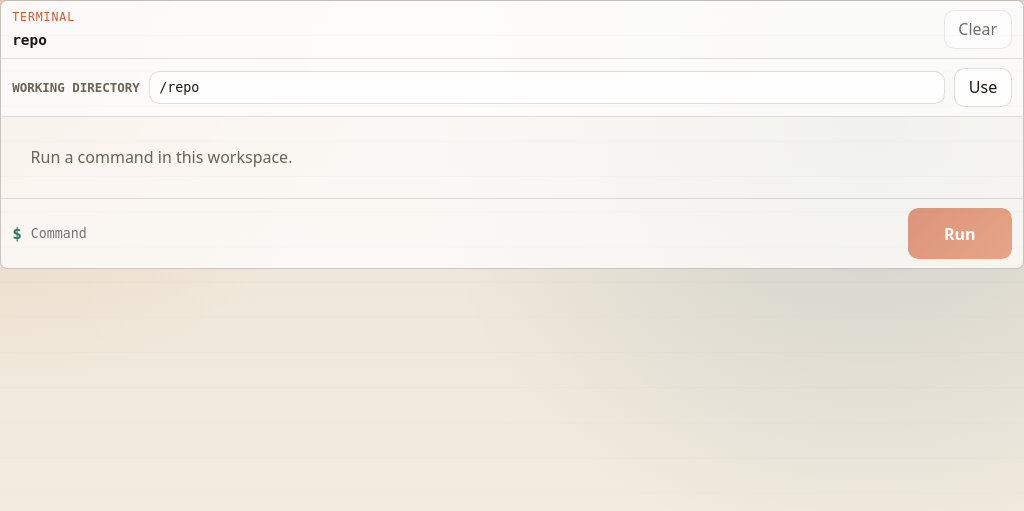
Test: TerminalPanel › keeps the live terminal subscription after clearing history
The width and height of the screenshot is (1024, 511).
In the field named "Terminal command": x=465, y=234 31,216 -> 899,251, type "echo first"
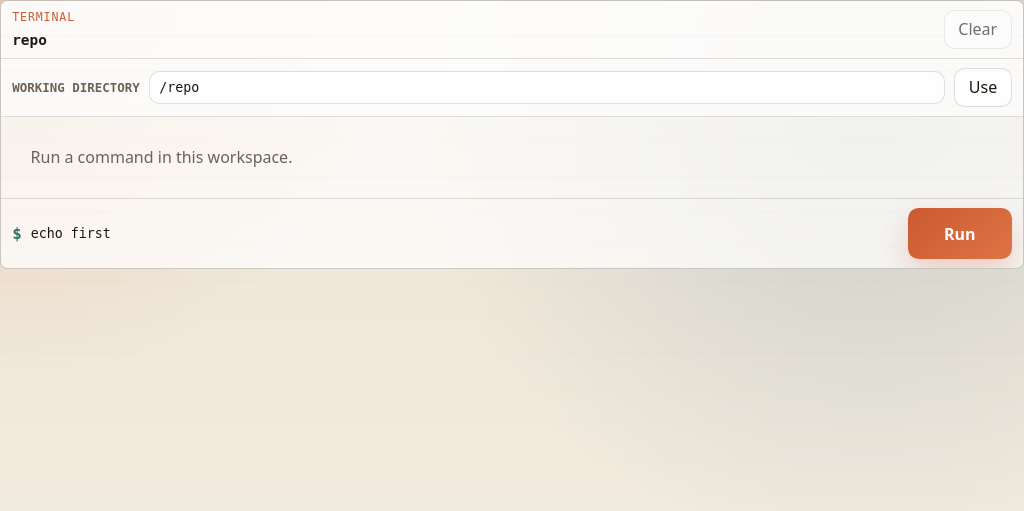
Click the button "Run": x=960, y=234 908,208 -> 1012,259
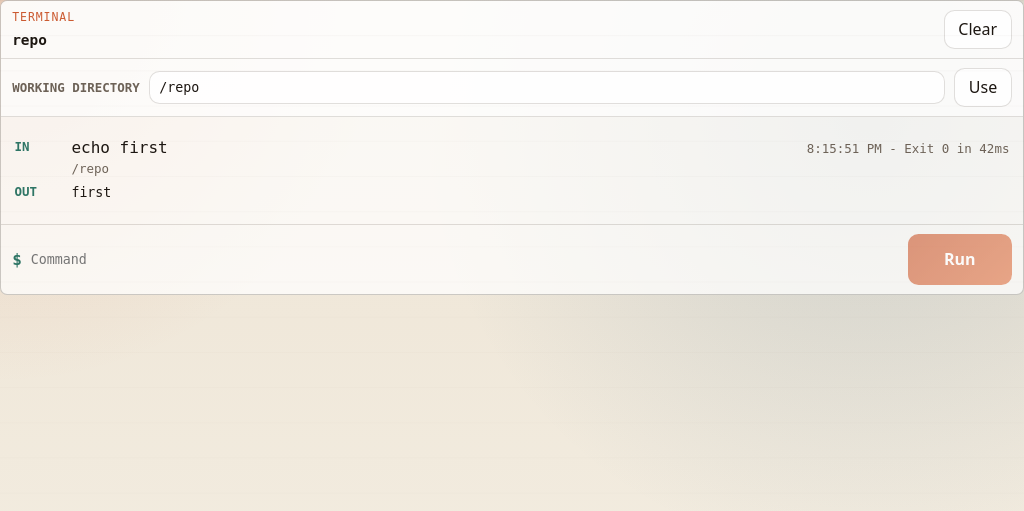
Check: the text with class "terminal-output-stdout" reads "first", box 71,185 -> 111,200
Click the button "Clear": x=978, y=30 944,10 -> 1012,49
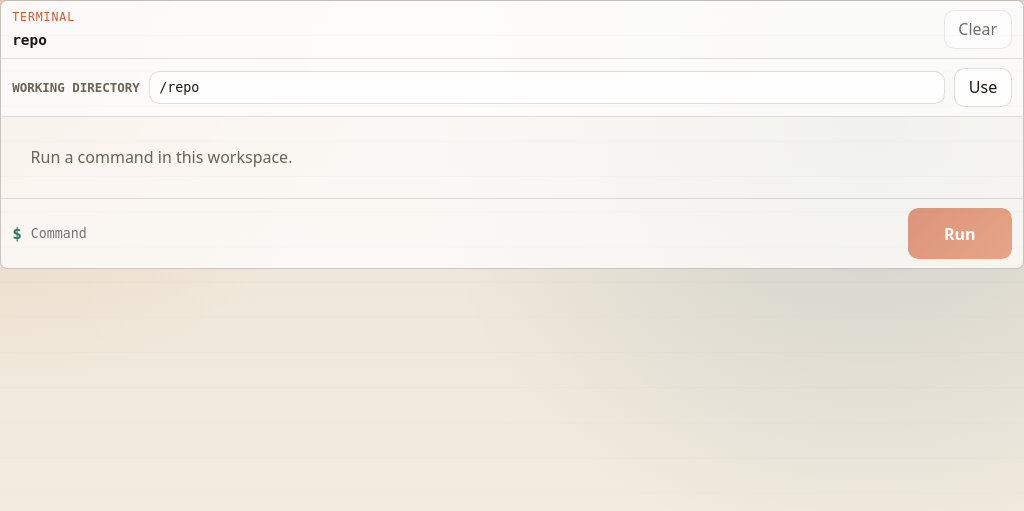
Check: the text "Run a command in this workspace." is shown, box 31,146 -> 292,168
In the field named "Terminal command": x=465, y=234 31,216 -> 899,251, type "echo second"
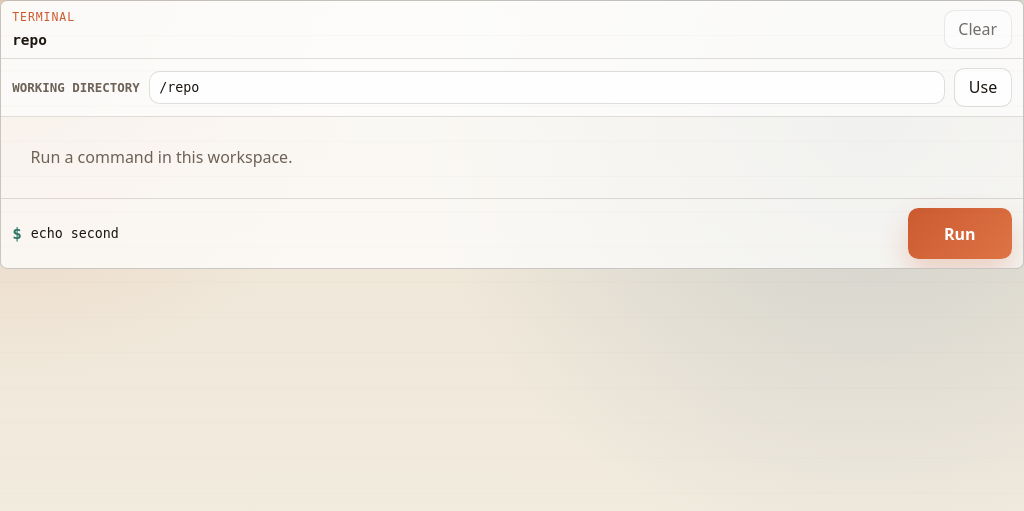
Click the button "Run": x=960, y=234 908,208 -> 1012,259
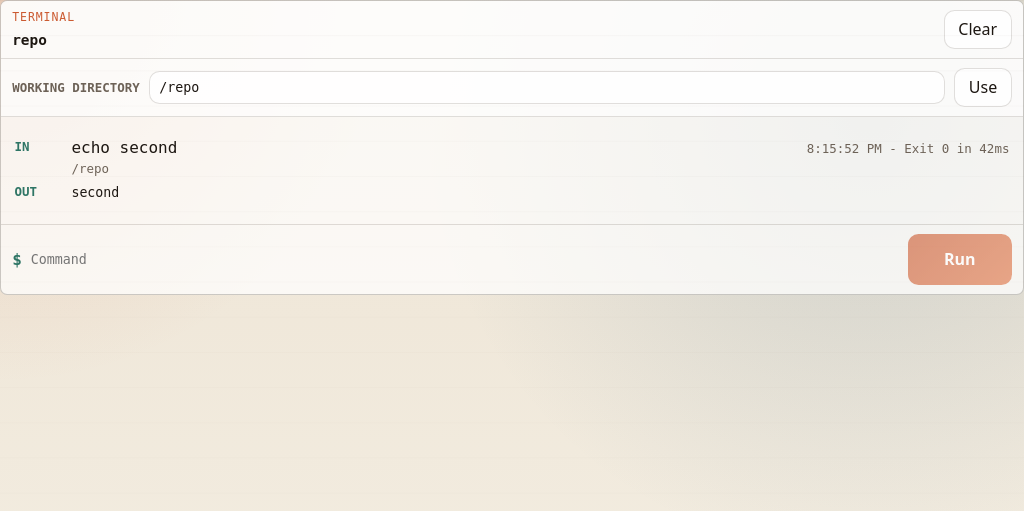
Check: the text with class "terminal-output-stdout" reads "second", box 71,185 -> 119,200
